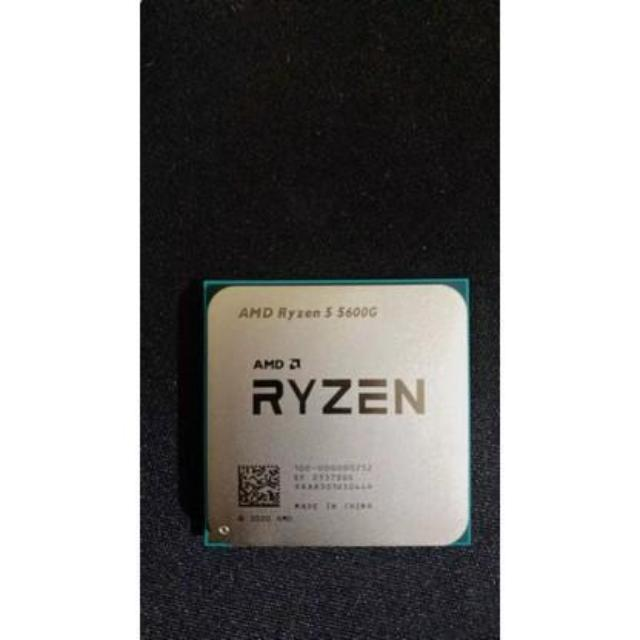CPU: (202, 282, 464, 542)
